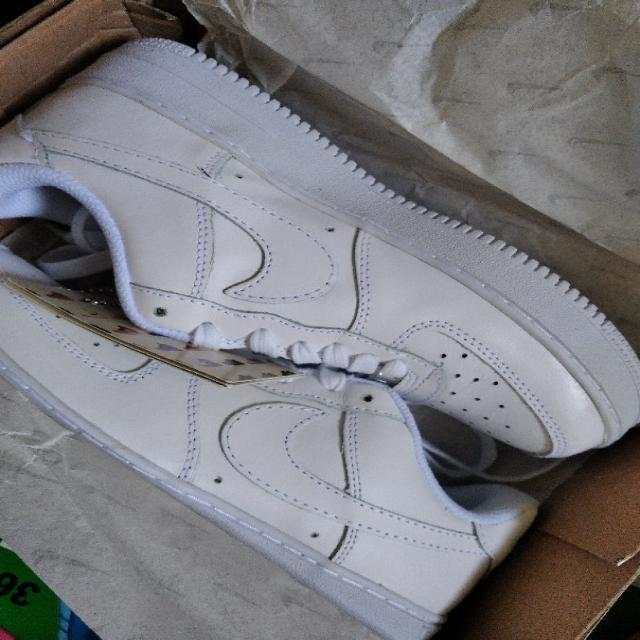nike fake air force: (0, 32, 640, 457), (0, 268, 551, 640)
